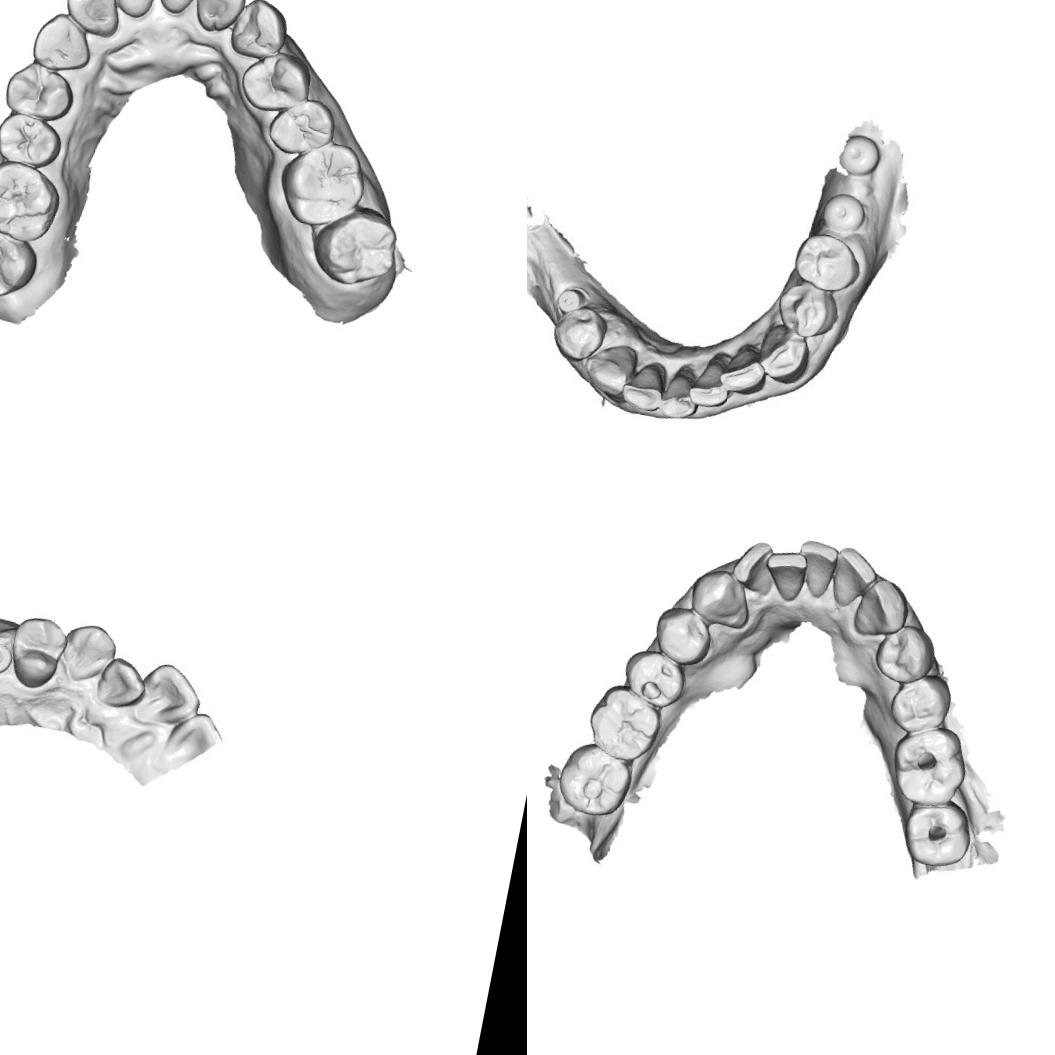canine: (685, 564, 755, 633), (26, 8, 97, 76), (848, 572, 913, 641), (57, 617, 120, 686), (225, 0, 292, 63), (754, 322, 816, 386), (580, 336, 638, 402)
implant: (834, 133, 887, 181), (820, 189, 866, 233), (550, 280, 586, 318), (0, 633, 16, 678)
incisor: (138, 658, 207, 726), (828, 544, 878, 612), (730, 536, 782, 598), (90, 654, 145, 711), (620, 359, 670, 420), (790, 538, 839, 598), (720, 341, 774, 394), (759, 545, 808, 603), (59, 0, 127, 40), (690, 352, 733, 408), (657, 364, 700, 420), (188, 0, 249, 37), (88, 0, 164, 21), (141, 0, 214, 20)
molar: (272, 132, 372, 234), (305, 196, 404, 294), (882, 719, 972, 813), (582, 677, 667, 766), (552, 735, 636, 822), (896, 793, 977, 874), (0, 154, 66, 248), (0, 218, 42, 302)
premolar: (235, 45, 316, 119), (8, 608, 74, 693), (263, 91, 340, 162), (1, 56, 79, 124), (788, 228, 868, 294), (884, 667, 956, 740), (616, 643, 690, 712), (770, 278, 845, 344), (648, 602, 717, 670), (870, 619, 936, 688), (0, 108, 66, 173), (548, 303, 611, 366)
